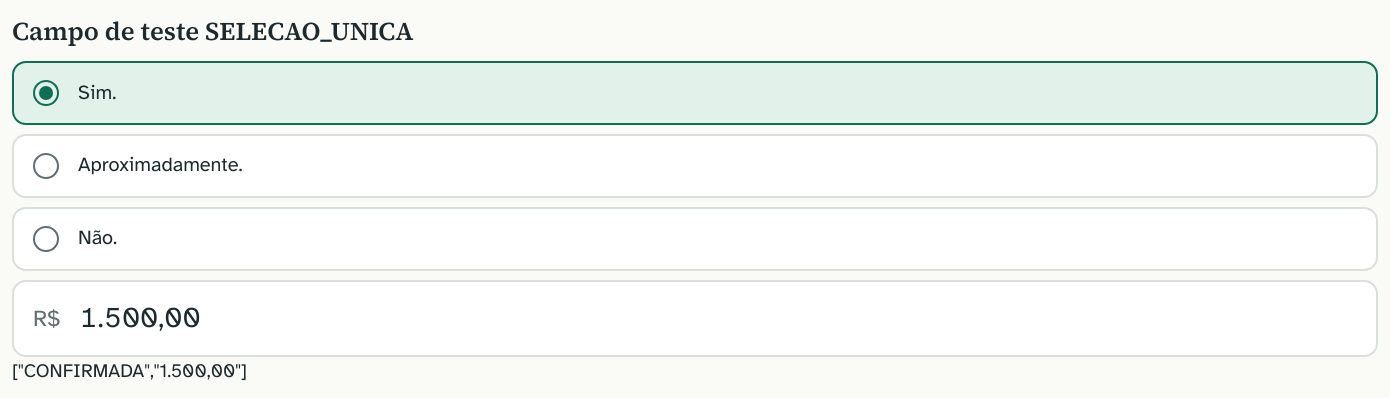
Test case: T-294: opção que abre campo R$ em outra variável › "Não." não abre campo e grava só o código
The width and height of the screenshot is (1390, 398).
Click the radio button labelled "Não.": click(98, 238) x1=12 y1=207 x2=1378 y2=270
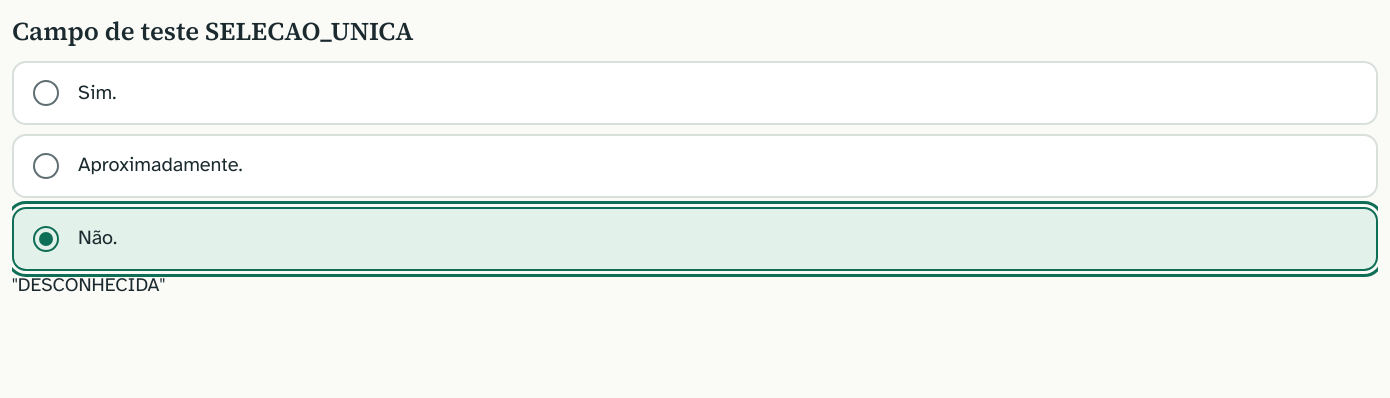
Expected: the text with test id "valor" reads "\"DESCONHECIDA\"", x1=12 y1=272 x2=165 y2=296
